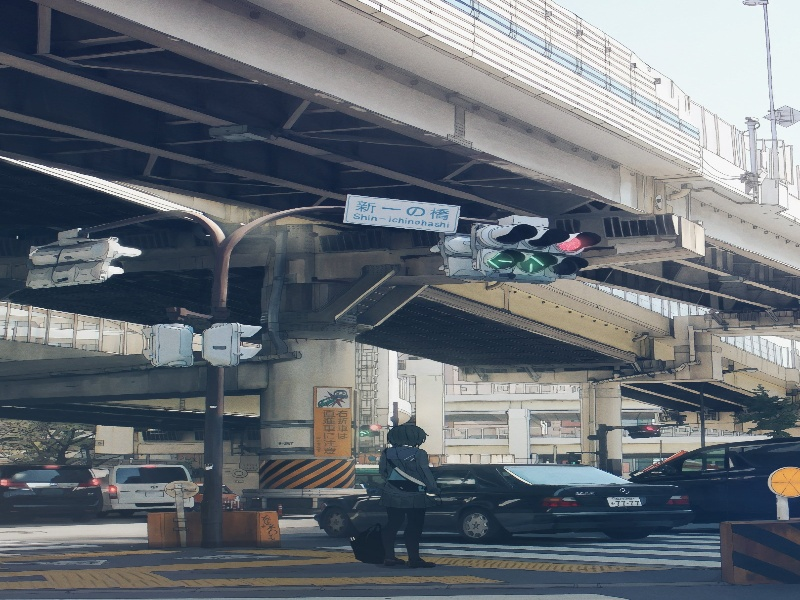car: (447, 461, 700, 548), (640, 434, 800, 526), (1, 463, 113, 527), (104, 457, 206, 523)
dress: (377, 481, 447, 516)
person: (375, 415, 433, 466)
